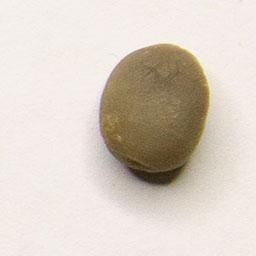peaberry: (93, 38, 214, 178)
